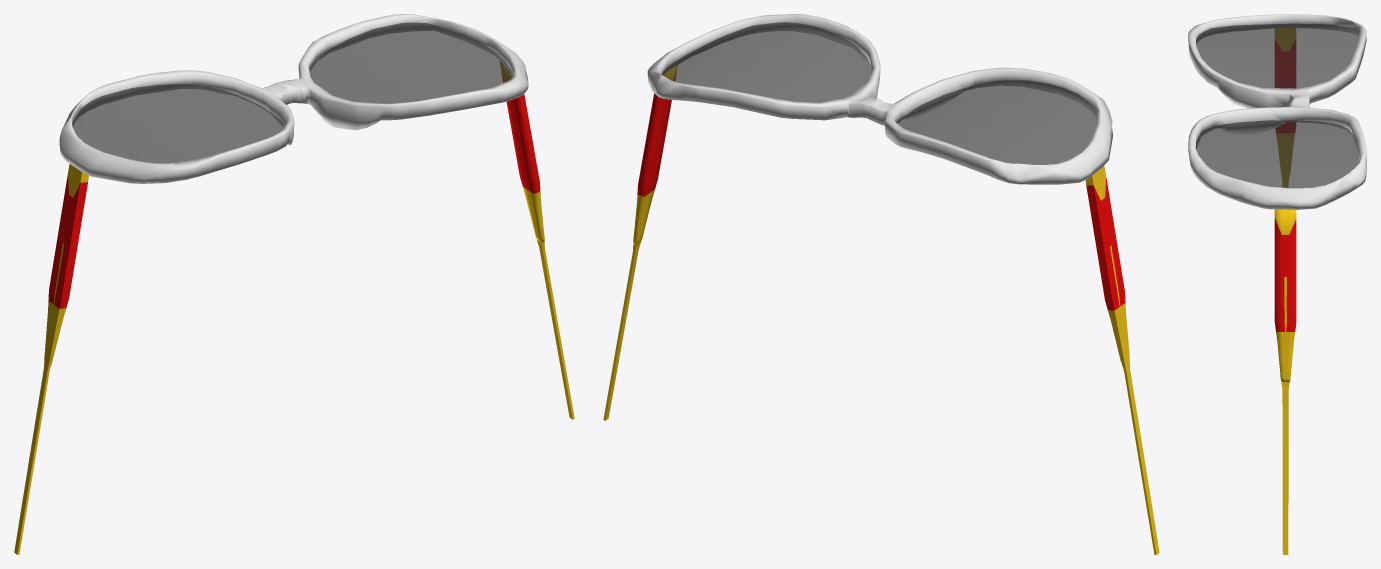
The picture shows the model from 3 angles, left to right: view 1: azimuth 30°, elevation 25°; view 2: azimuth 150°, elevation 25°; view 3: azimuth 270°, elevation 25°; orthographic projection. The views are drawn at different scales.
Parts seen in each view (by area): view 1: glass, kuang, l1, r1, l2, r2; view 2: glass, kuang, l1, r1, l2, r2; view 3: glass, kuang, r1, l1, r2.
Part boxes in pixels (x1=…): glass: x1=72, y1=22, x2=513, y2=163; kuang: x1=59, y1=14, x2=528, y2=183; l1: x1=44, y1=164, x2=88, y2=362; r1: x1=500, y1=62, x2=544, y2=242; l2: x1=14, y1=359, x2=51, y2=554; r2: x1=537, y1=240, x2=574, y2=419; glass: x1=661, y1=22, x2=1097, y2=164; kuang: x1=647, y1=14, x2=1112, y2=184; l1: x1=1085, y1=166, x2=1129, y2=363; r1: x1=633, y1=65, x2=677, y2=245; l2: x1=1122, y1=361, x2=1159, y2=554; r2: x1=603, y1=242, x2=640, y2=420; glass: x1=1195, y1=23, x2=1359, y2=188; kuang: x1=1188, y1=14, x2=1366, y2=209; r1: x1=1274, y1=209, x2=1296, y2=381; l1: x1=1275, y1=28, x2=1295, y2=174; r2: x1=1281, y1=382, x2=1289, y2=554.
Size of the model in its own units: 180 by 125 by 57.73.
